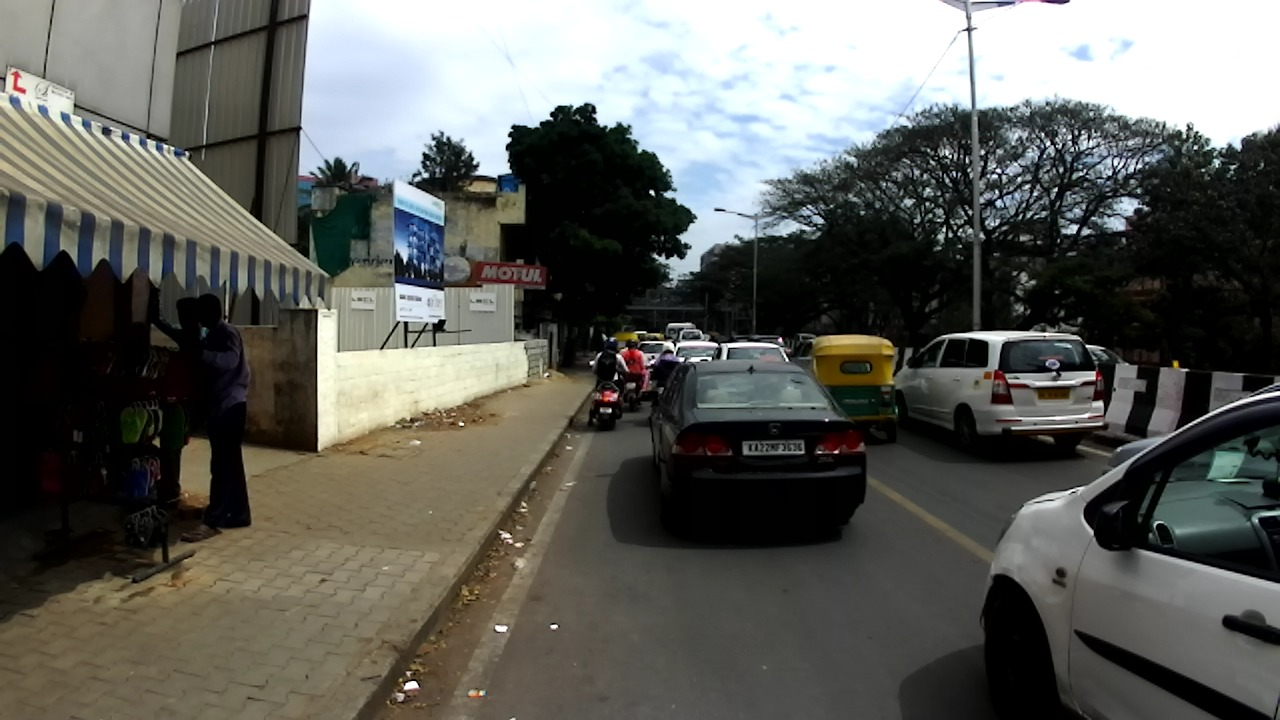autorickshaw: (810, 335, 898, 445), (612, 333, 639, 353), (640, 334, 668, 342)
bus: (666, 322, 697, 340)
car: (978, 384, 1280, 718), (640, 359, 869, 529), (895, 330, 1103, 456), (1107, 436, 1168, 477), (636, 341, 677, 391), (709, 342, 787, 362), (749, 332, 792, 362), (1089, 342, 1130, 370), (672, 340, 718, 363), (790, 340, 812, 369), (678, 328, 710, 342), (796, 331, 816, 342), (633, 330, 647, 342), (731, 334, 748, 343)
motorcycle: (589, 357, 623, 430), (619, 370, 642, 410)
person: (182, 295, 252, 542), (148, 283, 204, 497), (593, 330, 607, 349), (581, 329, 590, 357)
rider: (589, 336, 629, 426), (622, 337, 647, 397), (650, 341, 681, 388), (621, 338, 632, 352), (725, 330, 737, 341), (750, 333, 762, 342), (709, 334, 720, 342)
